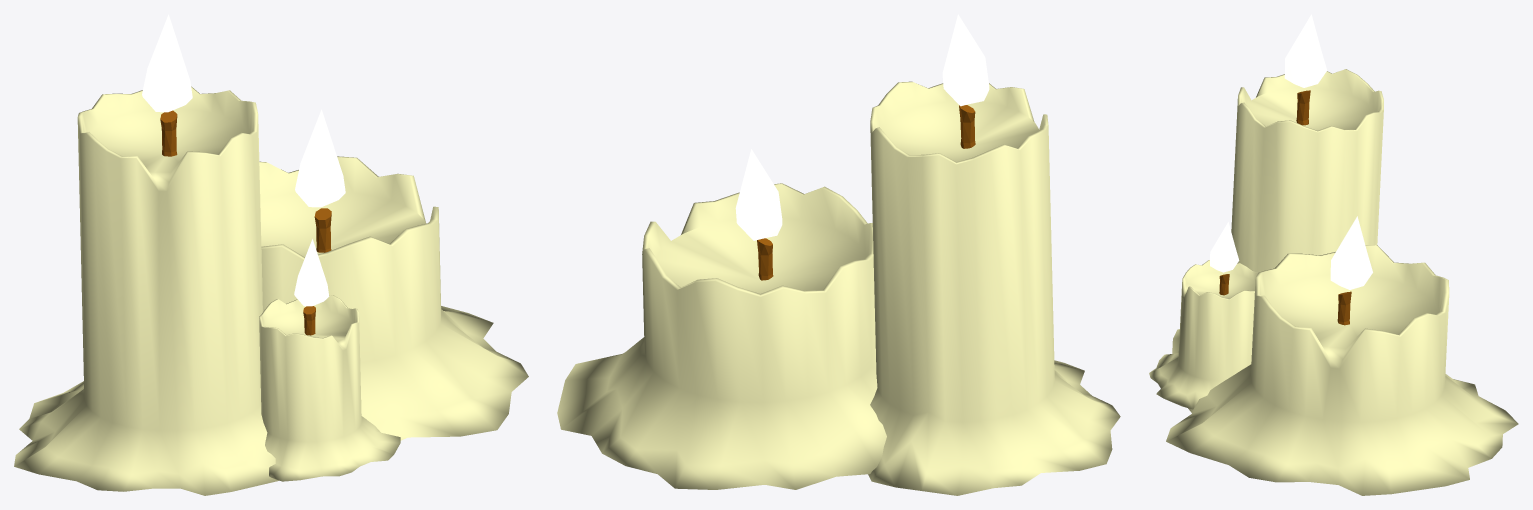
The model's file is velas_2.gltf.
The picture shows the model from 3 angles, left to right: view 1: azimuth 30°, elevation 25°; view 2: azimuth 150°, elevation 25°; view 3: azimuth 270°, elevation 25°; orthographic projection. The views are drawn at different scales.
Visible parts, largest first — view 1: Cylinder.013; view 2: Cylinder.013; view 3: Cylinder.013.
Boxes of the visible parts, box(x1,y1,x2,y2) form: Cylinder.013: box(14, 14, 528, 495); Cylinder.013: box(557, 14, 1120, 495); Cylinder.013: box(1149, 14, 1518, 495).
Bounding box in the file's own units: 2.88 × 2.31 × 2.23.
